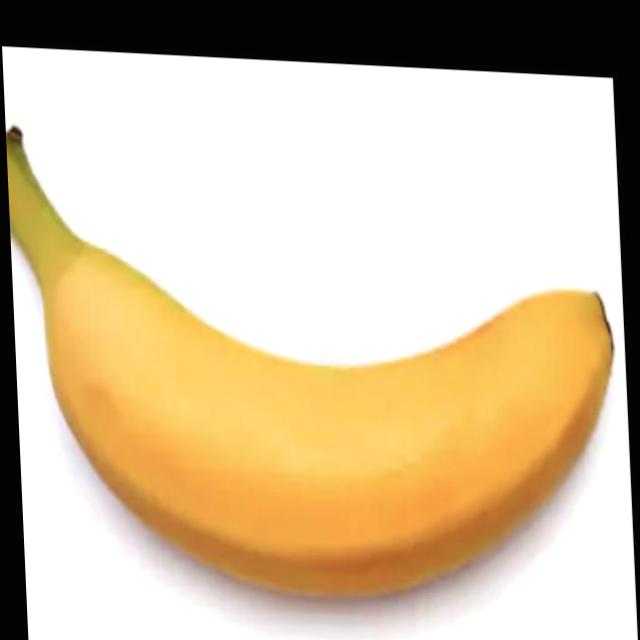Banana: (5, 123, 622, 607)
